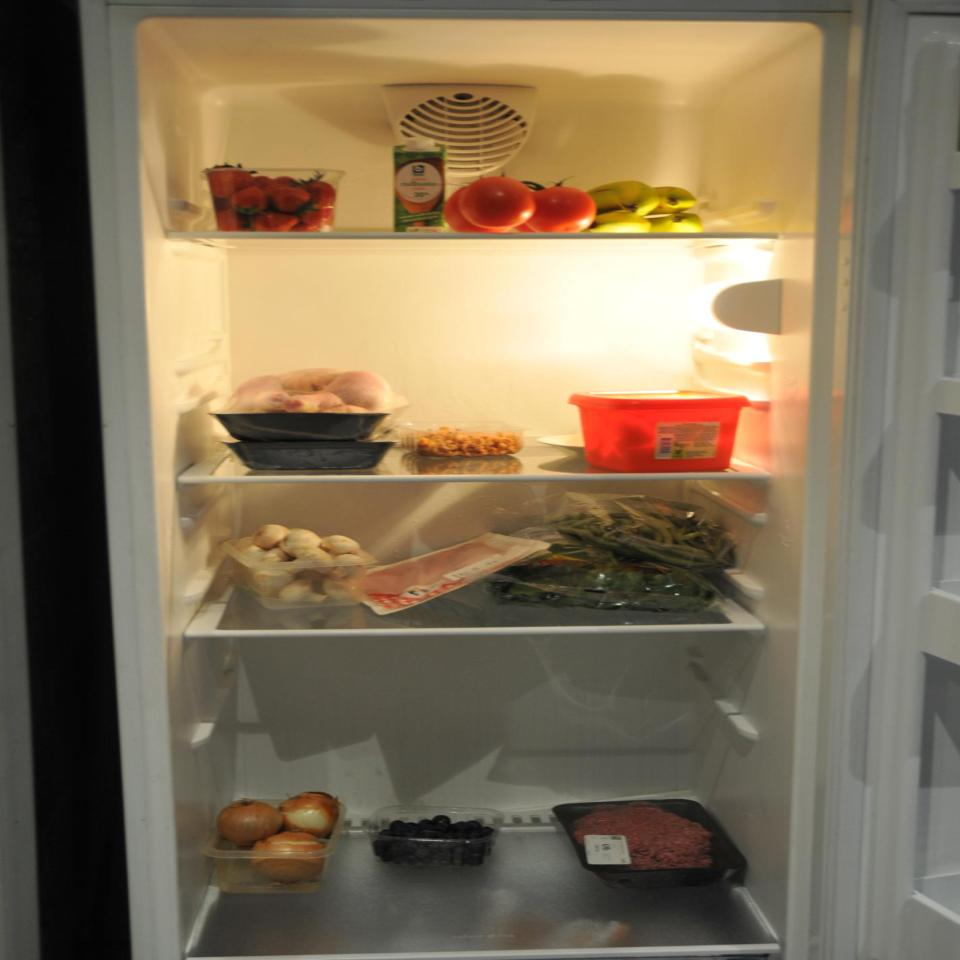Carne pollo: (213, 360, 415, 440)
Mantequilla: (565, 386, 760, 474)
Plátano: (577, 179, 723, 231)
Tomate: (444, 168, 604, 238)
